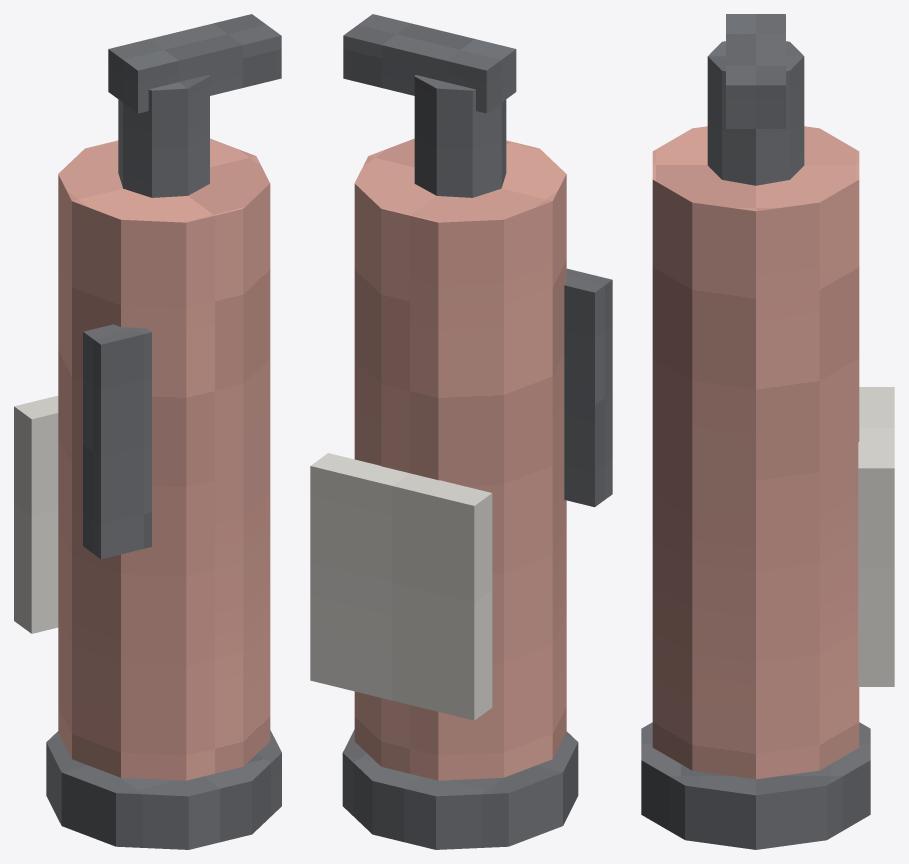
Rendered from pixel-modern-office-fire-extinguisher-d66bafd8.glb.
3 renders of one model, left to right at view 1: azimuth 30°, elevation 25°; view 2: azimuth 150°, elevation 25°; view 3: azimuth 270°, elevation 25°, orthographic.
Parts seen in each view (by area): view 1: fire-extinguisher; view 2: fire-extinguisher; view 3: fire-extinguisher.
Part boxes in pixels (left/top/right/bottom): fire-extinguisher: left=14, top=14, right=281, bottom=849; fire-extinguisher: left=310, top=14, right=612, bottom=849; fire-extinguisher: left=641, top=14, right=894, bottom=849.
Bounding box in the file's own units: 0.205 × 0.7 × 0.2101.
Materials: 3 (3 with a texture image).
